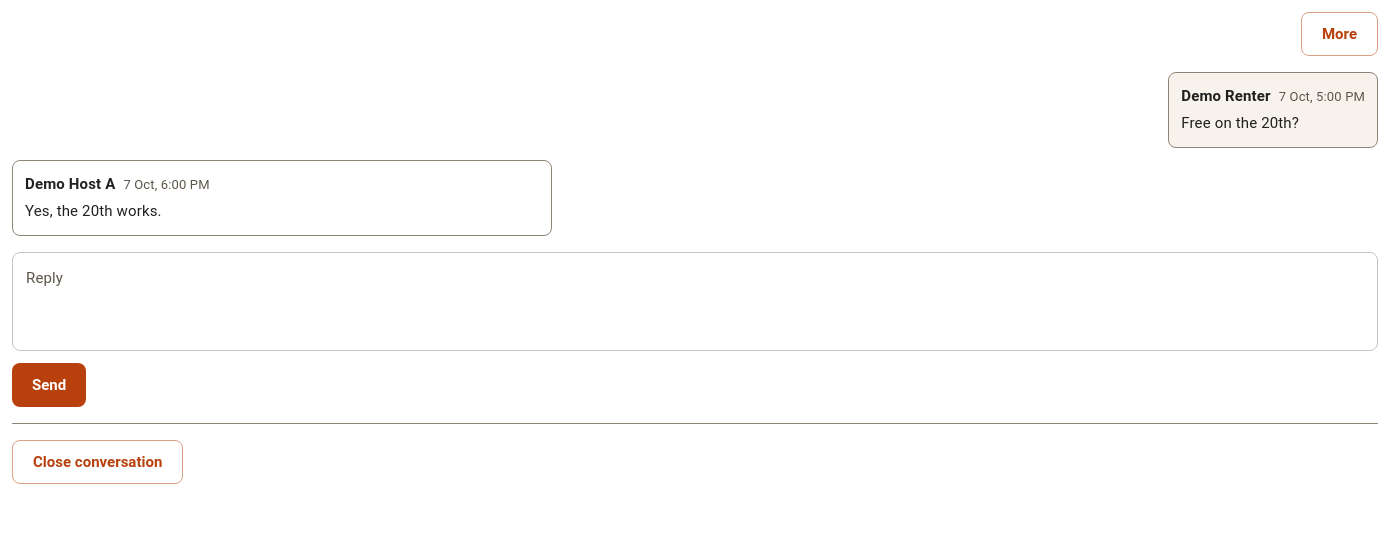
Test: confirms in the page before closing, then goes read-only
The width and height of the screenshot is (1390, 536).
Click the button "Close conversation".
click(98, 462)  # box [12,440,183,484]
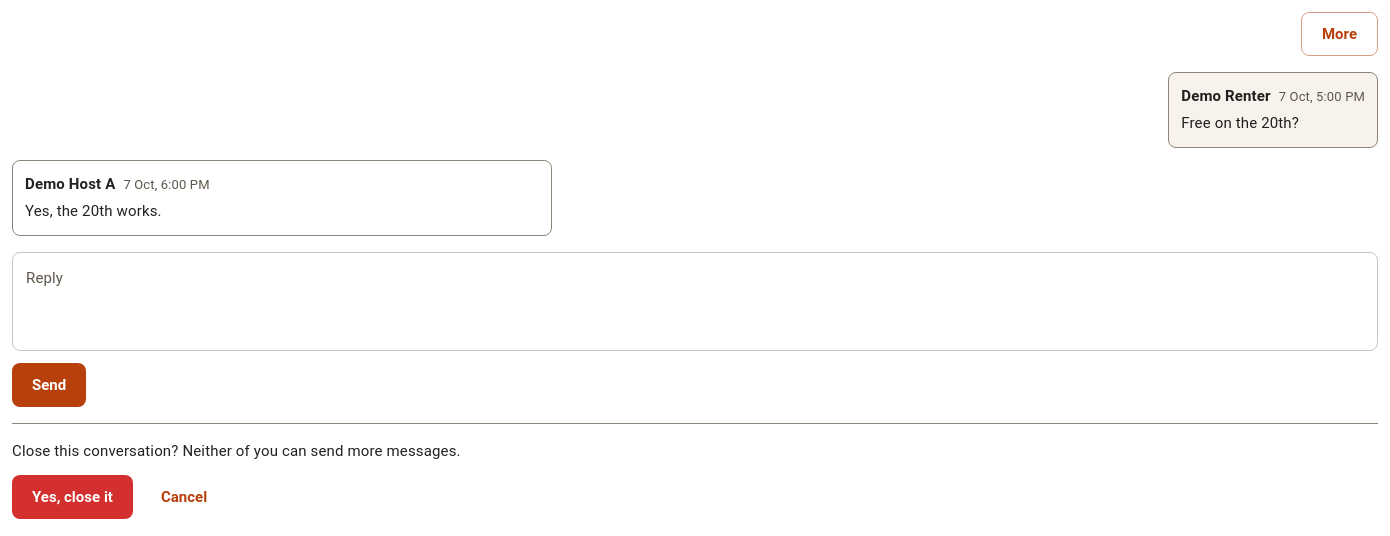
Expected: the text "Close this conversation? Neither of you can send more messages." is shown, [12,442,461,460]
Click the button "Yes, close it".
click(72, 497)  # box [12,475,133,519]
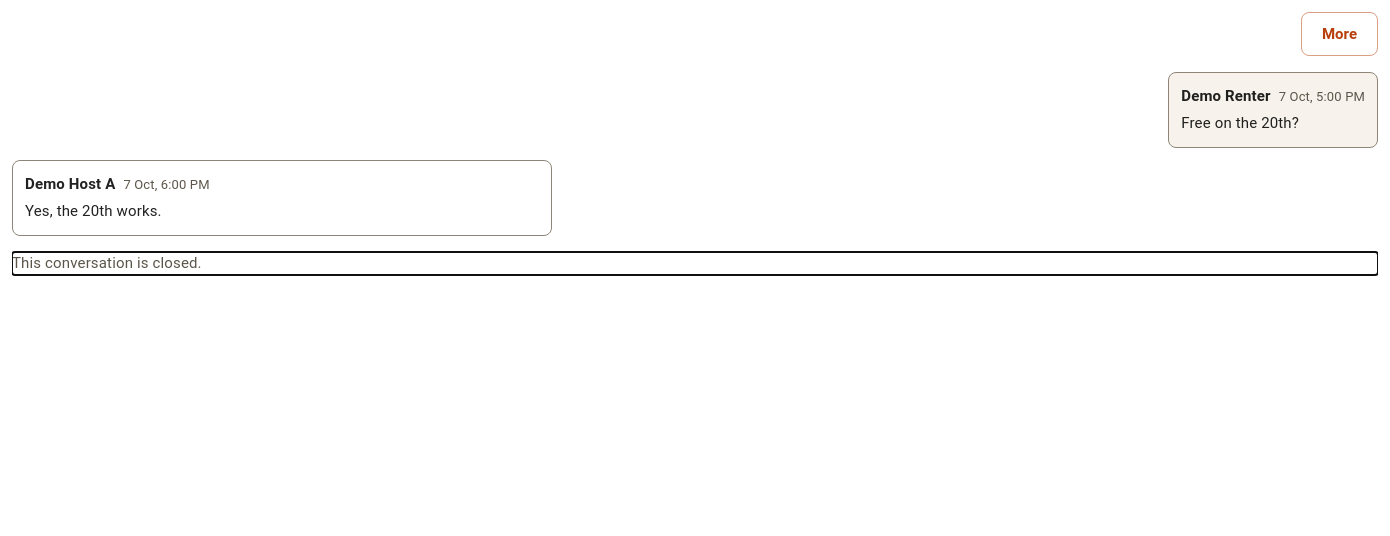
Expected: the text "This conversation is closed." is shown, [12,254,202,272]
